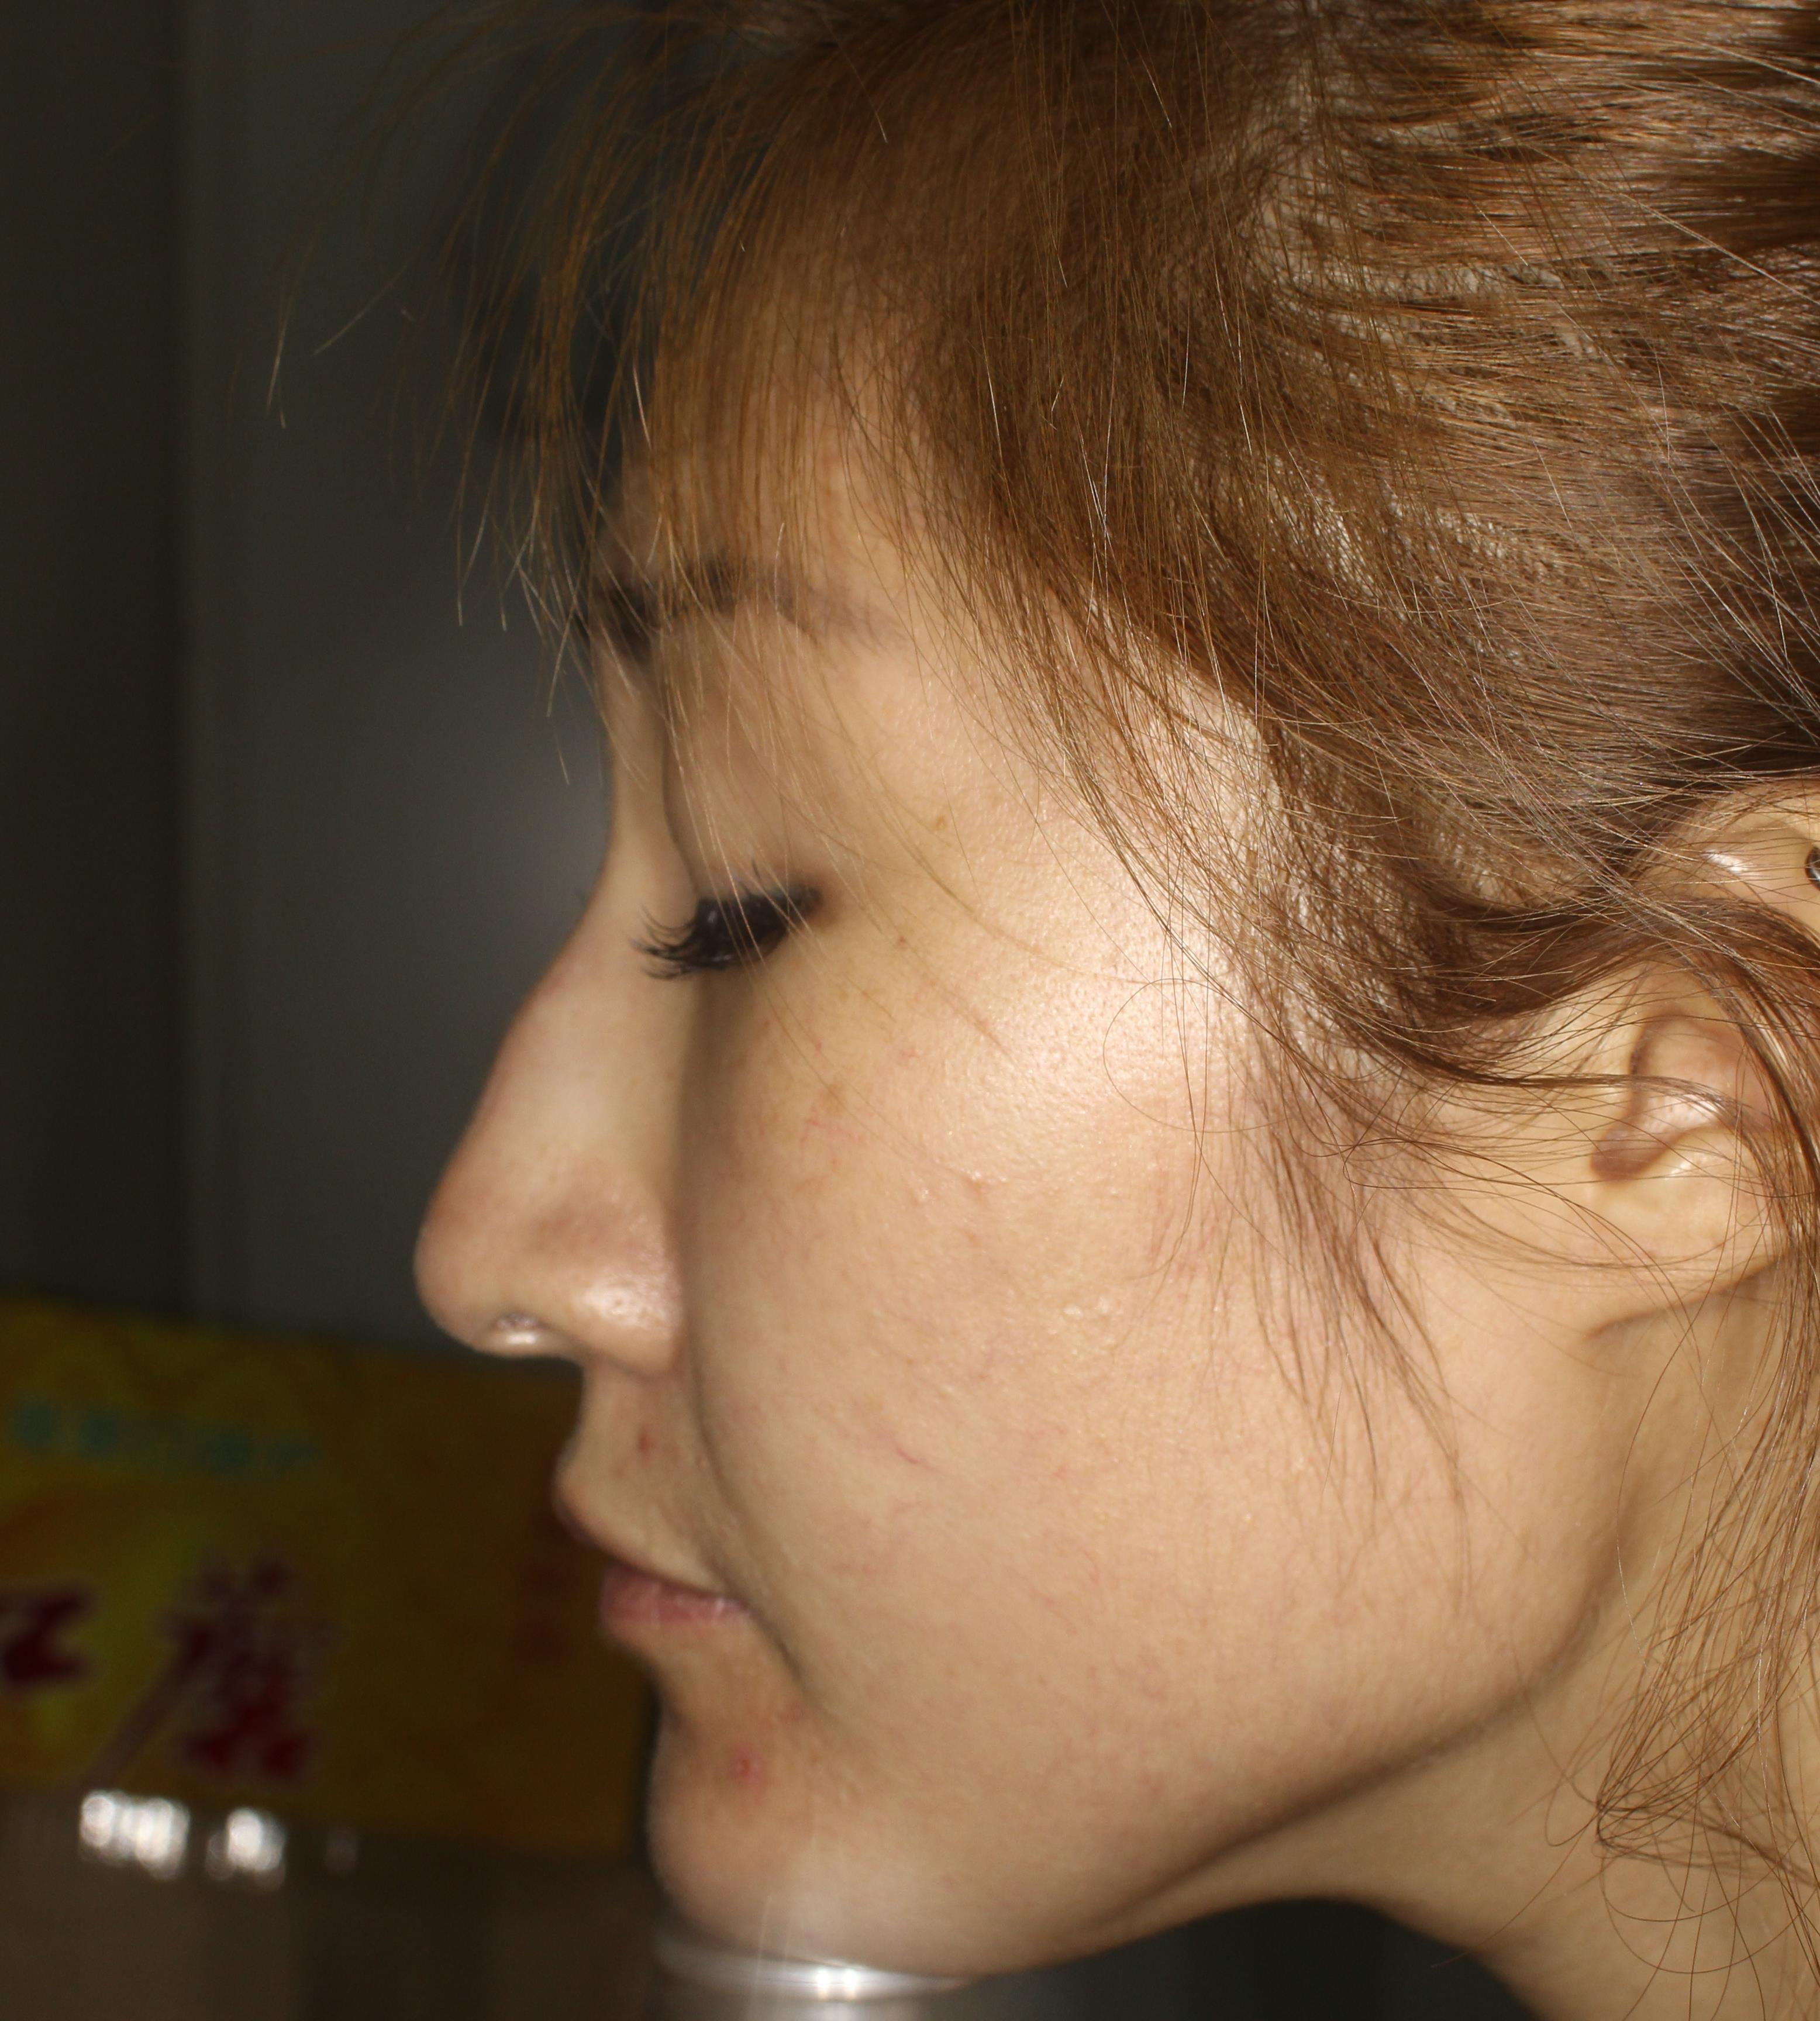fore: (713, 1705, 776, 1823), (603, 1392, 673, 1496)
